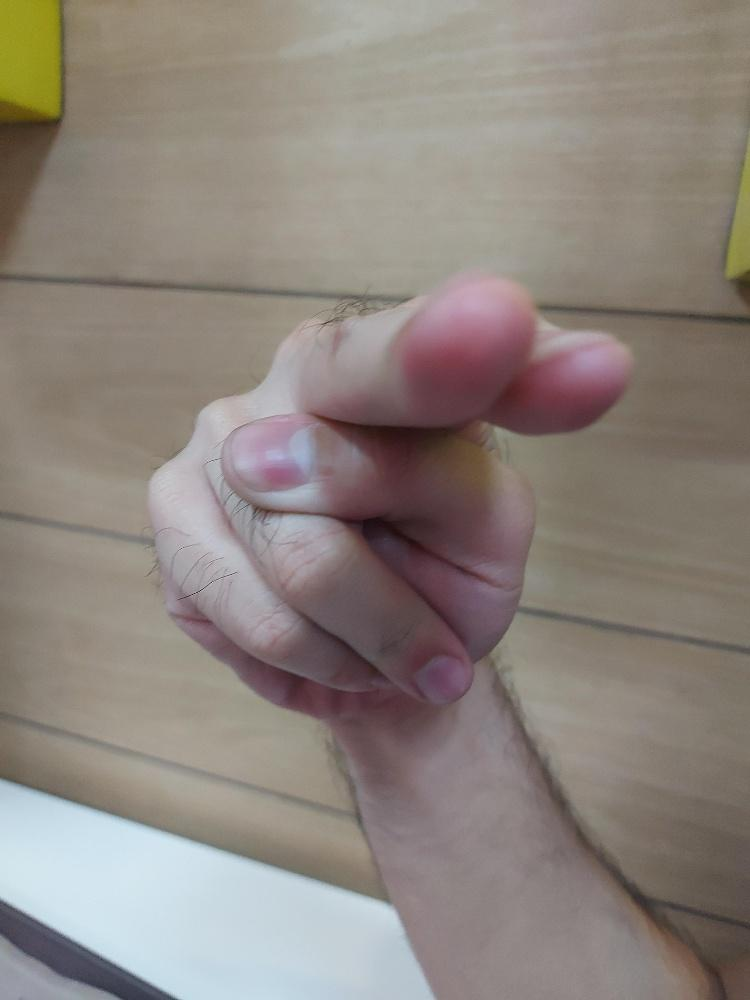n: (146, 265, 637, 721)
